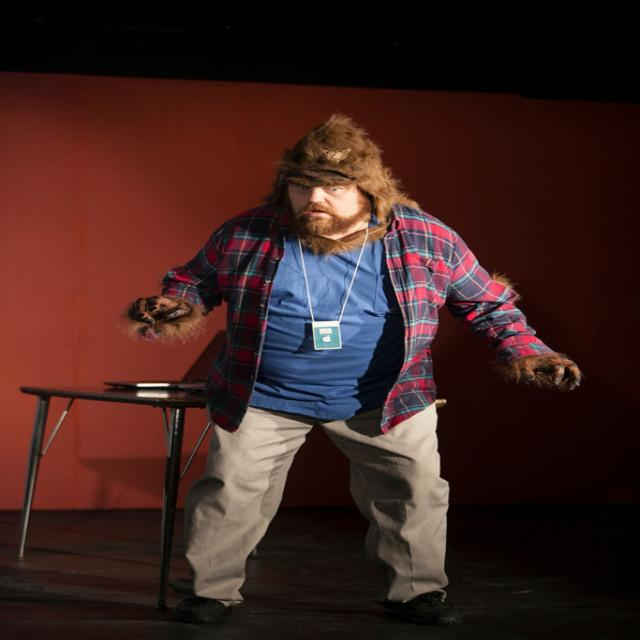desk: (23, 382, 445, 610)
person: (136, 111, 588, 629)
